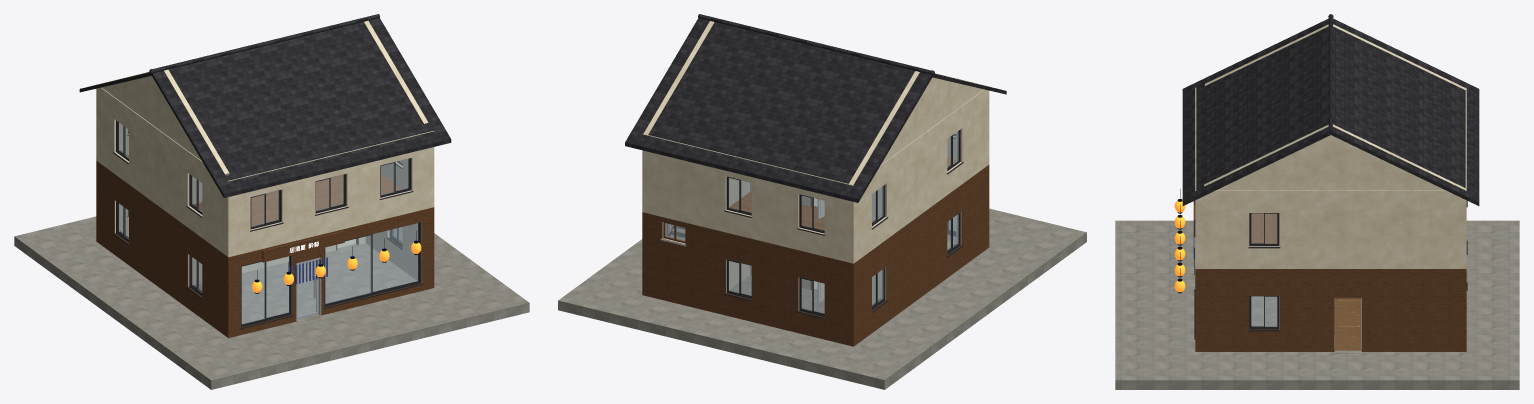
Rendered from b_izakaya_suikei.gltf.
3 views of the same model, side by side, from view 1: azimuth 30°, elevation 25°; view 2: azimuth 150°, elevation 25°; view 3: azimuth 270°, elevation 25° (orthographic). The views are drawn at different scales.
Parts seen in each view (by area): view 1: S_izakaya_suikei, D_izakaya_suikei_F1_S2_Door0; view 2: S_izakaya_suikei; view 3: S_izakaya_suikei, D_izakaya_suikei_F1_E1_Door0.
Part boxes in pixels (<box>): S_izakaya_suikei: <box>14,14,529,389</box>; D_izakaya_suikei_F1_S2_Door0: <box>297,259,318,319</box>; S_izakaya_suikei: <box>558,14,1086,389</box>; S_izakaya_suikei: <box>1115,14,1519,389</box>; D_izakaya_suikei_F1_E1_Door0: <box>1335,298,1361,350</box>.
Size of the model in its own units: 14 by 9.78 by 15.
23 materials, 12 textured.
